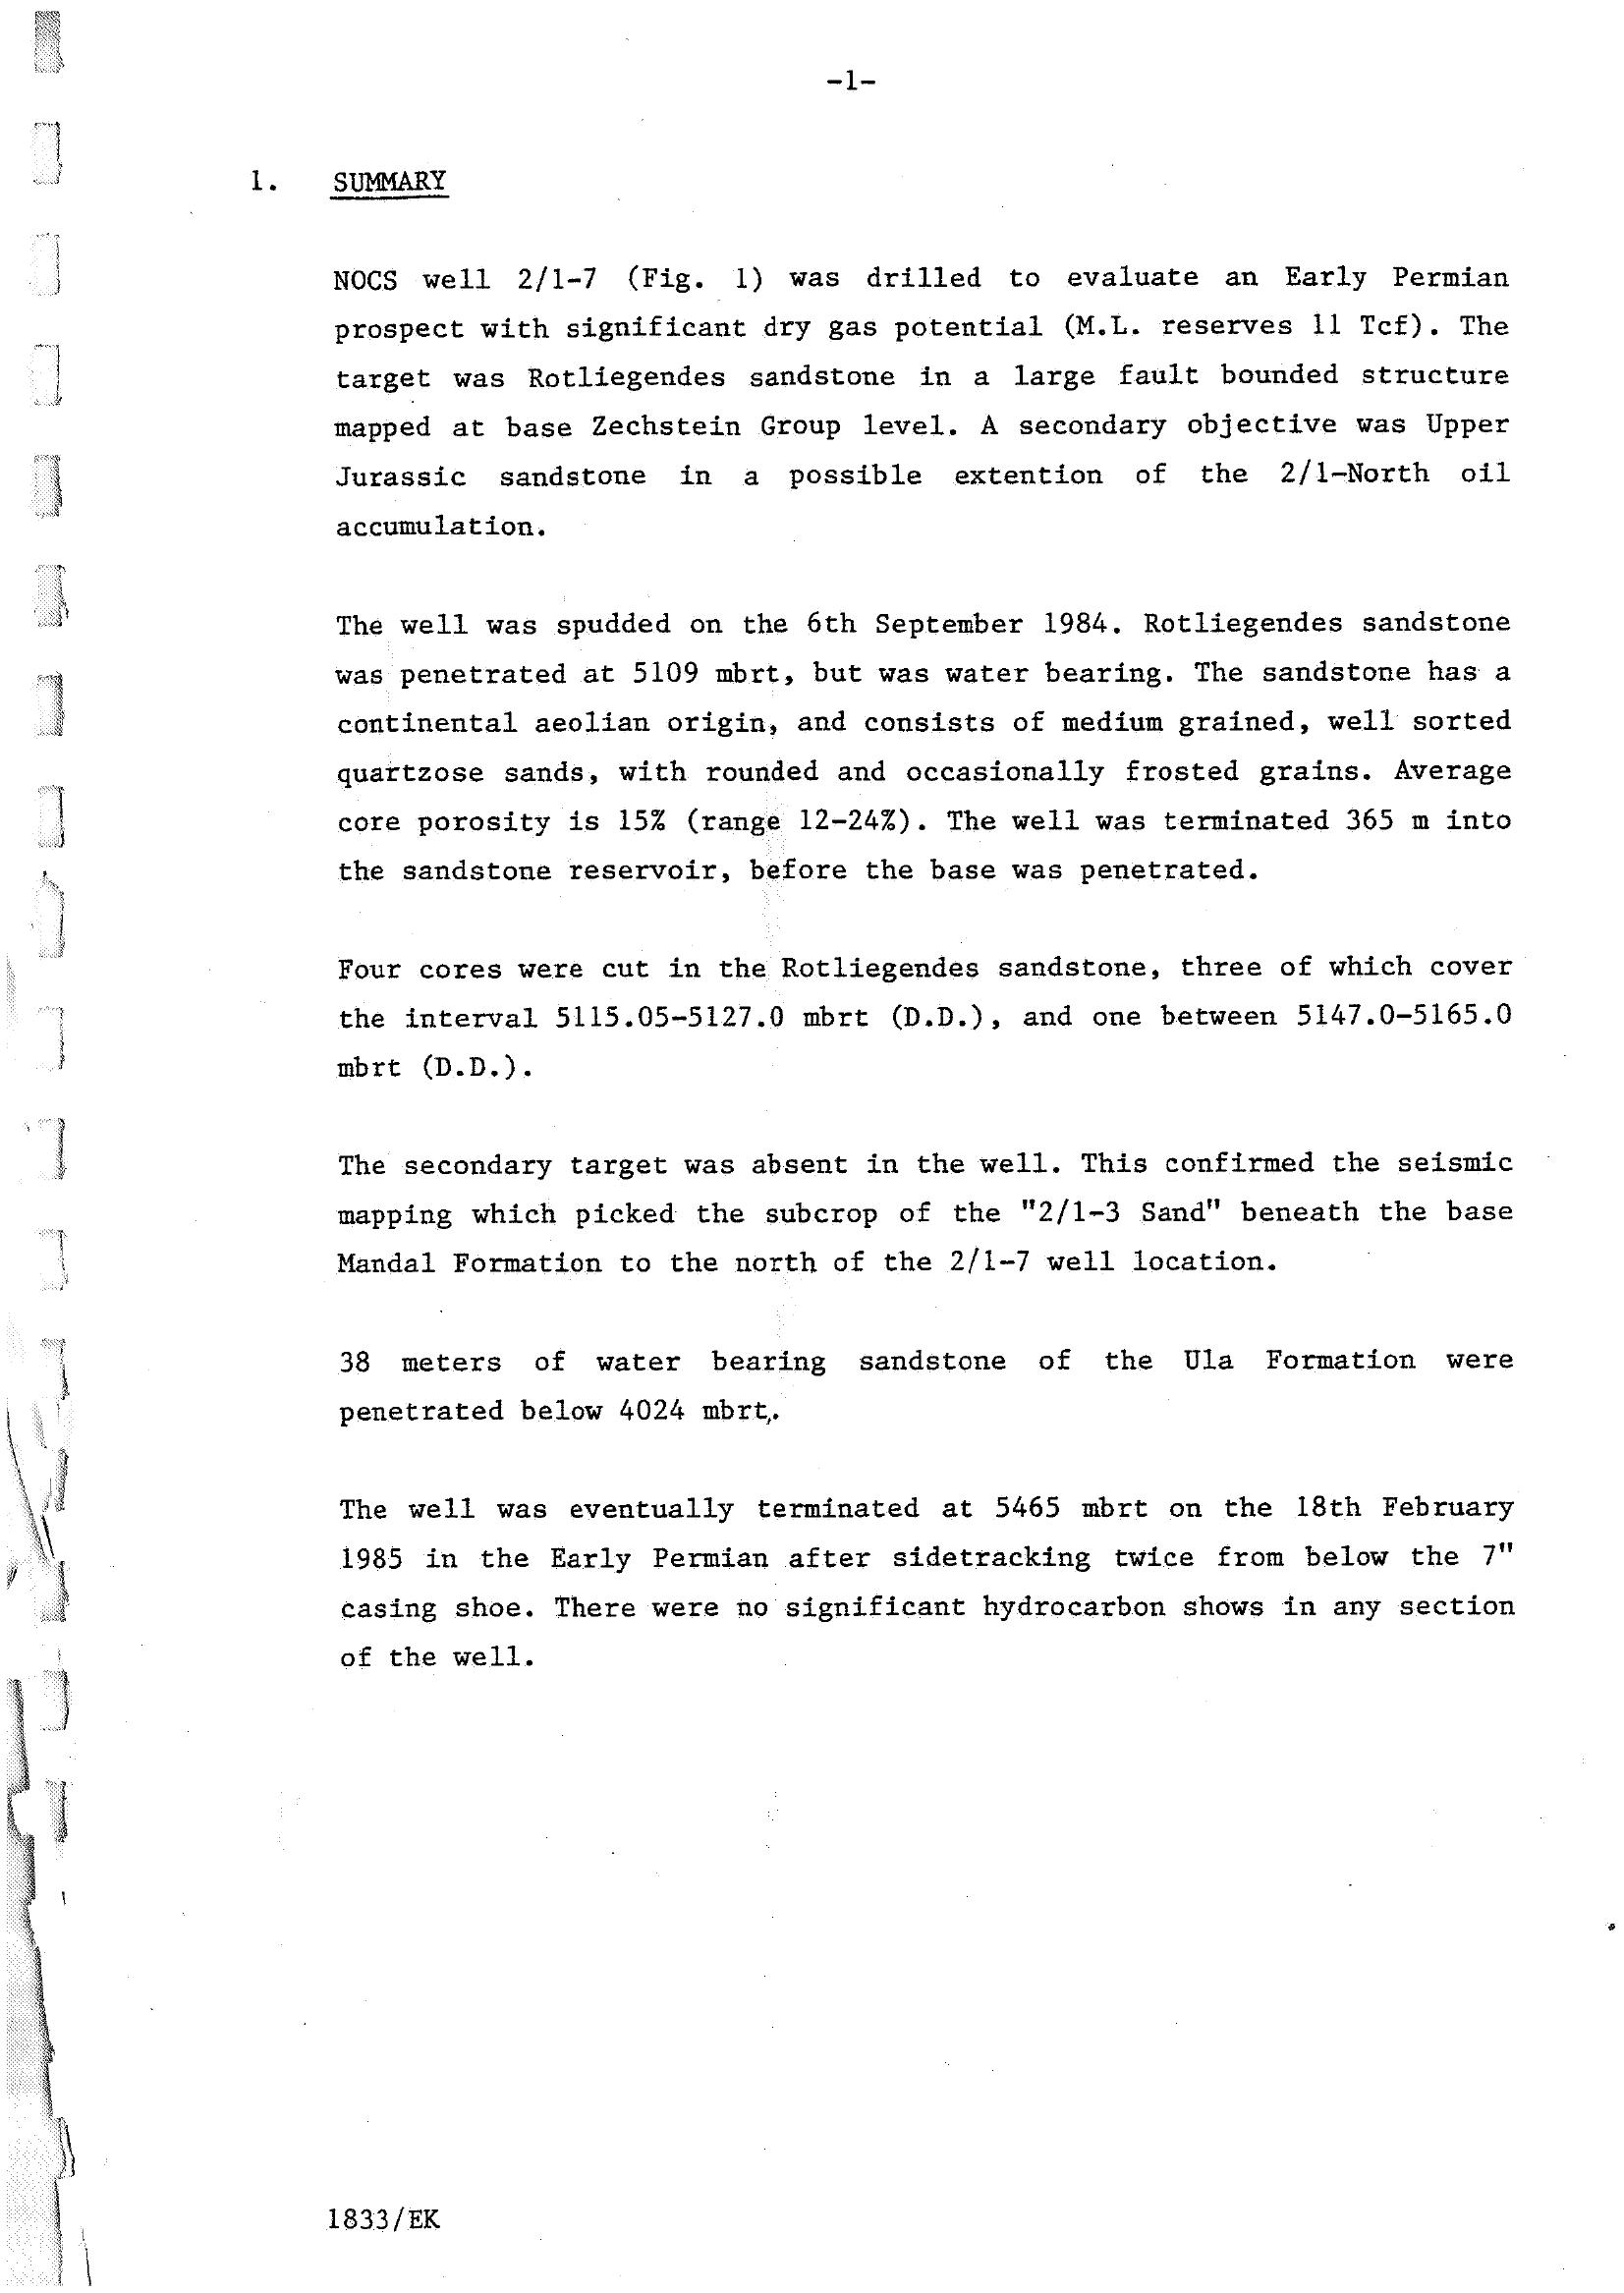text: (213, 142, 1561, 1750)
